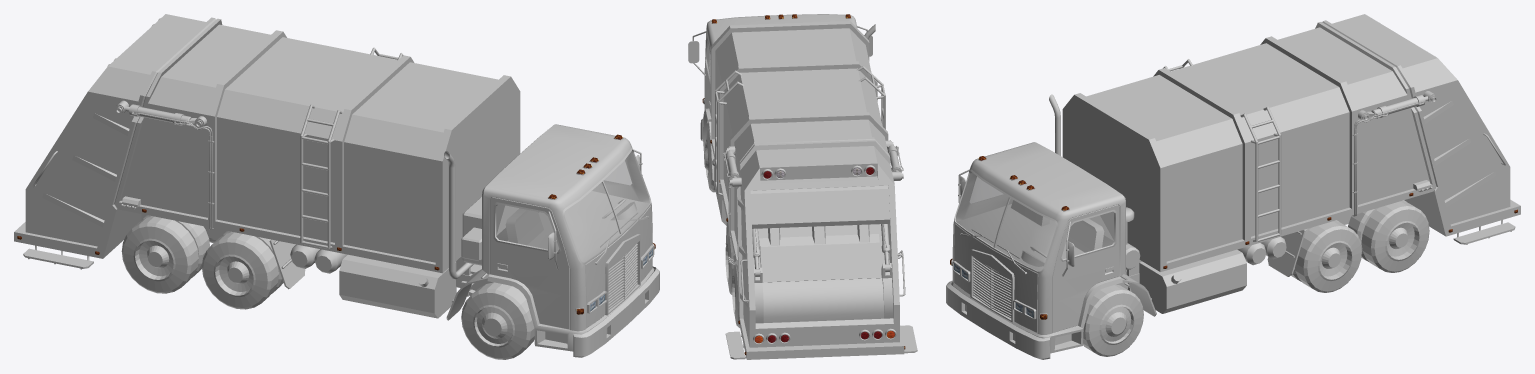
The model's file is truck.FBX.
The picture shows the model from 3 angles, left to right: view 1: azimuth 30°, elevation 25°; view 2: azimuth 150°, elevation 25°; view 3: azimuth 270°, elevation 25°; orthographic projection. The views are drawn at different scales.
Parts seen in each view (by area): view 1: garbage_truck, Object005, Object003, Object001; view 2: garbage_truck, Object002, Object004, Object006; view 3: garbage_truck, Object006, Object004, Object002.
Part boxes in pixels (x1,y1,x2,y2): garbage_truck: (14, 14, 659, 357); Object005: (121, 215, 209, 293); Object003: (202, 231, 283, 309); Object001: (461, 282, 534, 359); garbage_truck: (688, 14, 917, 359); Object002: (704, 127, 715, 192); Object004: (725, 232, 734, 294); Object006: (732, 265, 739, 327); garbage_truck: (946, 14, 1520, 359); Object006: (1348, 200, 1429, 272); Object004: (1291, 220, 1362, 292); Object002: (1083, 284, 1143, 356).
Bounding box in the file's own units: 253 × 116 × 306.
